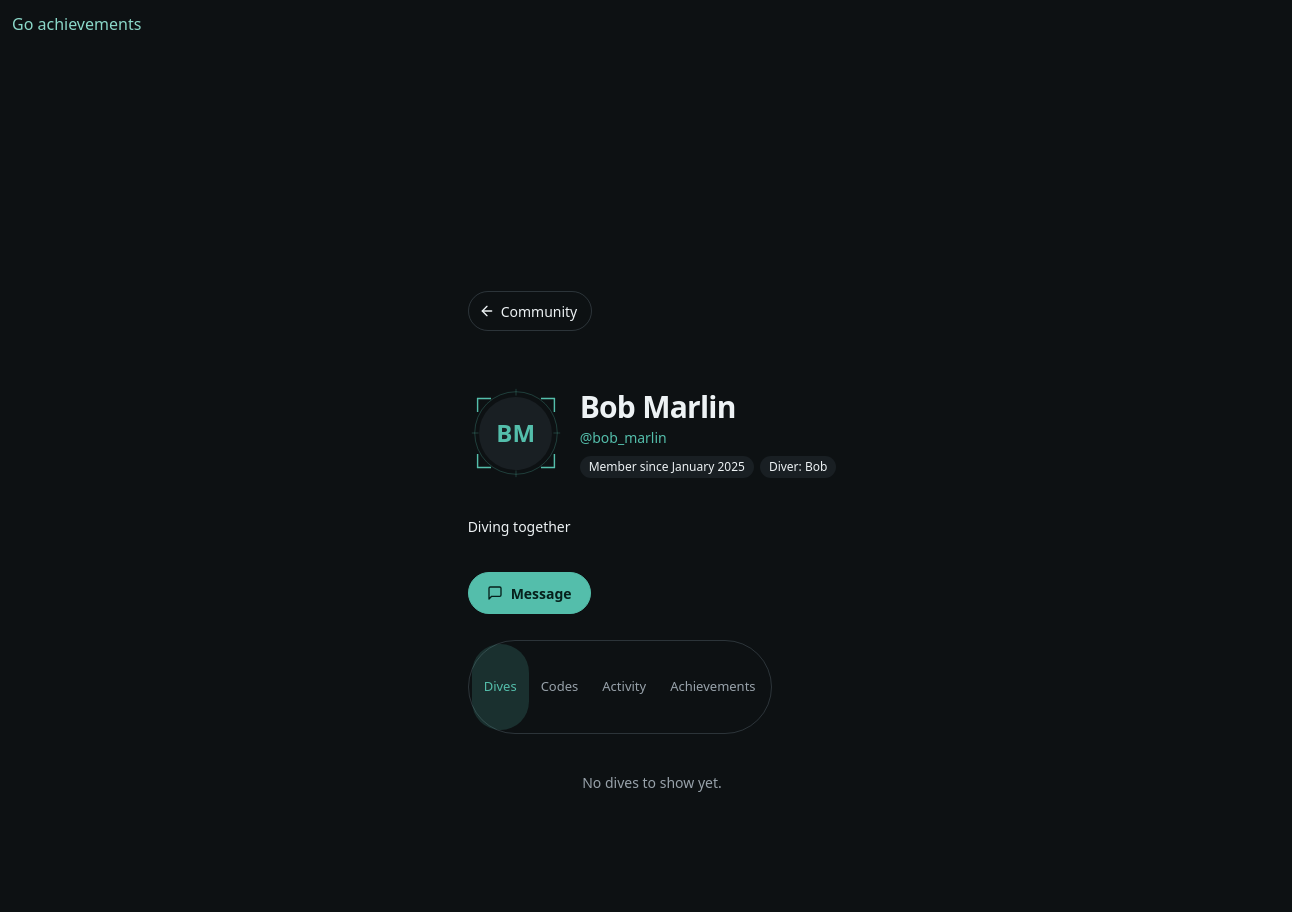
MemberProfile › switches to the achievements tab when a ?tab link is followed on the same profile
Expected: the heading "Bob Marlin" is shown, x1=580 y1=386 x2=736 y2=427
Click the link "Go achievements".
click(77, 24)  # box x1=12 y1=13 x2=141 y2=35
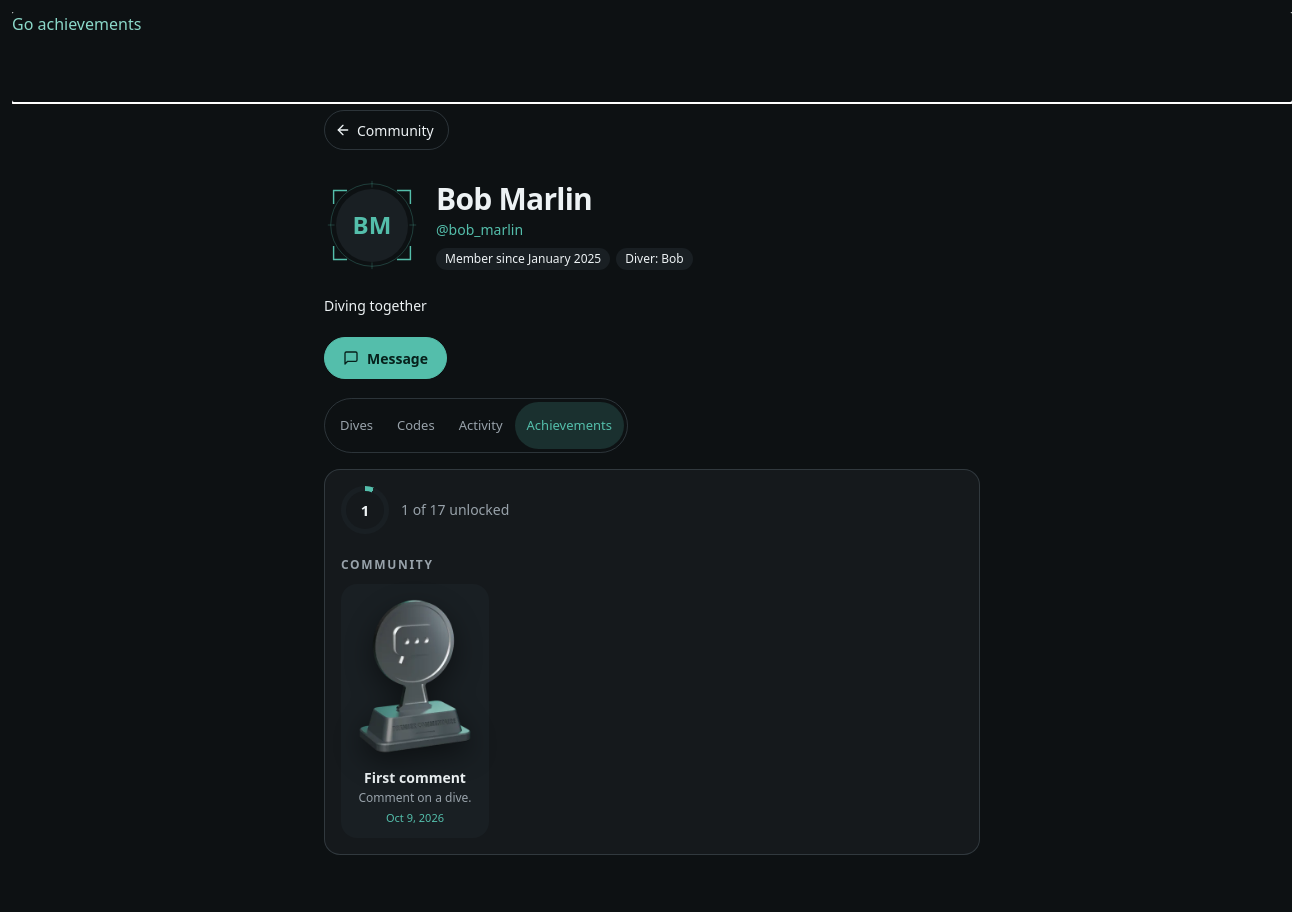
Now the text "First comment" is shown, box x1=364 y1=767 x2=466 y2=788
